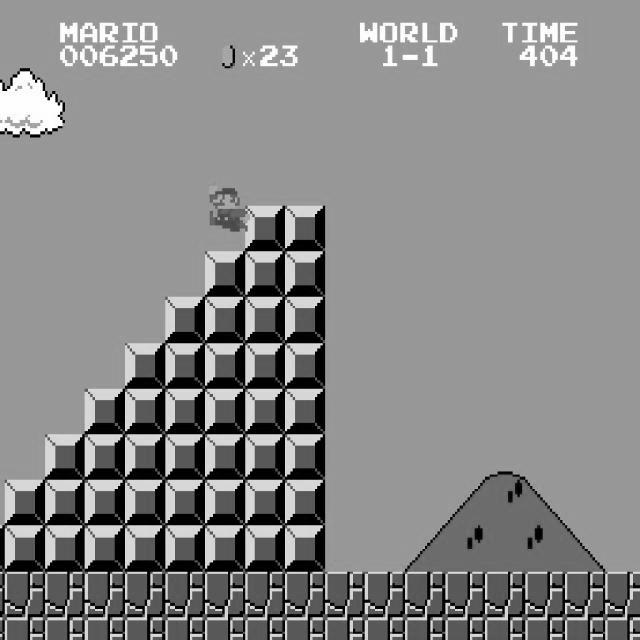11- little_mario: (210, 183, 253, 232)
17- undestructible_block: (44, 572, 86, 618), (84, 572, 126, 618), (124, 572, 166, 618), (164, 572, 206, 618), (204, 572, 246, 618), (244, 572, 286, 618), (284, 572, 326, 618), (324, 572, 366, 618), (364, 572, 406, 618), (404, 572, 446, 618), (444, 572, 486, 618), (484, 572, 526, 618), (524, 572, 566, 618), (564, 572, 606, 618), (5, 572, 46, 618), (605, 572, 640, 618), (44, 617, 86, 640), (84, 617, 126, 640), (124, 617, 166, 640), (164, 617, 206, 640), (204, 617, 246, 640), (244, 617, 286, 640), (284, 617, 326, 640), (324, 617, 366, 640), (364, 617, 406, 640), (404, 617, 446, 640), (444, 617, 486, 640), (484, 617, 526, 640), (524, 617, 566, 640), (564, 617, 606, 640), (5, 617, 46, 640), (605, 617, 640, 640), (0, 572, 5, 618), (0, 617, 5, 640)
9- hard_block: (44, 434, 86, 480), (44, 480, 86, 526), (44, 526, 86, 572), (84, 388, 126, 434), (84, 434, 126, 480), (84, 480, 126, 526), (84, 526, 126, 572), (124, 388, 166, 434), (124, 434, 166, 480), (124, 480, 166, 526), (124, 526, 166, 572), (164, 297, 206, 343), (164, 388, 206, 434), (164, 434, 206, 480), (164, 480, 206, 526), (164, 526, 206, 572), (204, 252, 246, 298), (204, 297, 246, 343), (204, 388, 246, 434), (204, 434, 246, 480), (204, 480, 246, 526), (204, 526, 246, 572), (244, 252, 286, 298), (244, 297, 286, 343), (244, 388, 286, 434), (244, 434, 286, 480), (244, 480, 286, 526), (244, 526, 286, 572), (284, 252, 326, 298), (284, 297, 326, 343), (284, 388, 326, 434), (284, 434, 326, 480), (284, 480, 326, 526), (284, 526, 326, 572), (124, 343, 166, 388), (164, 343, 206, 388), (204, 343, 246, 388), (244, 206, 286, 251), (244, 343, 286, 388), (284, 206, 326, 251), (284, 343, 326, 388), (5, 480, 46, 526), (5, 526, 46, 572), (0, 526, 5, 572)
